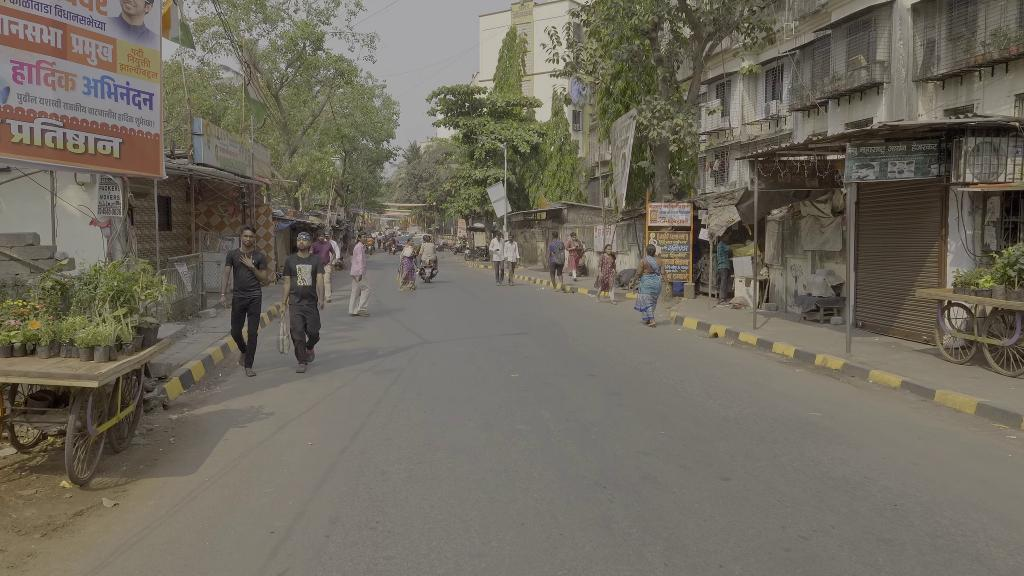garbage: (275, 311, 291, 356)
